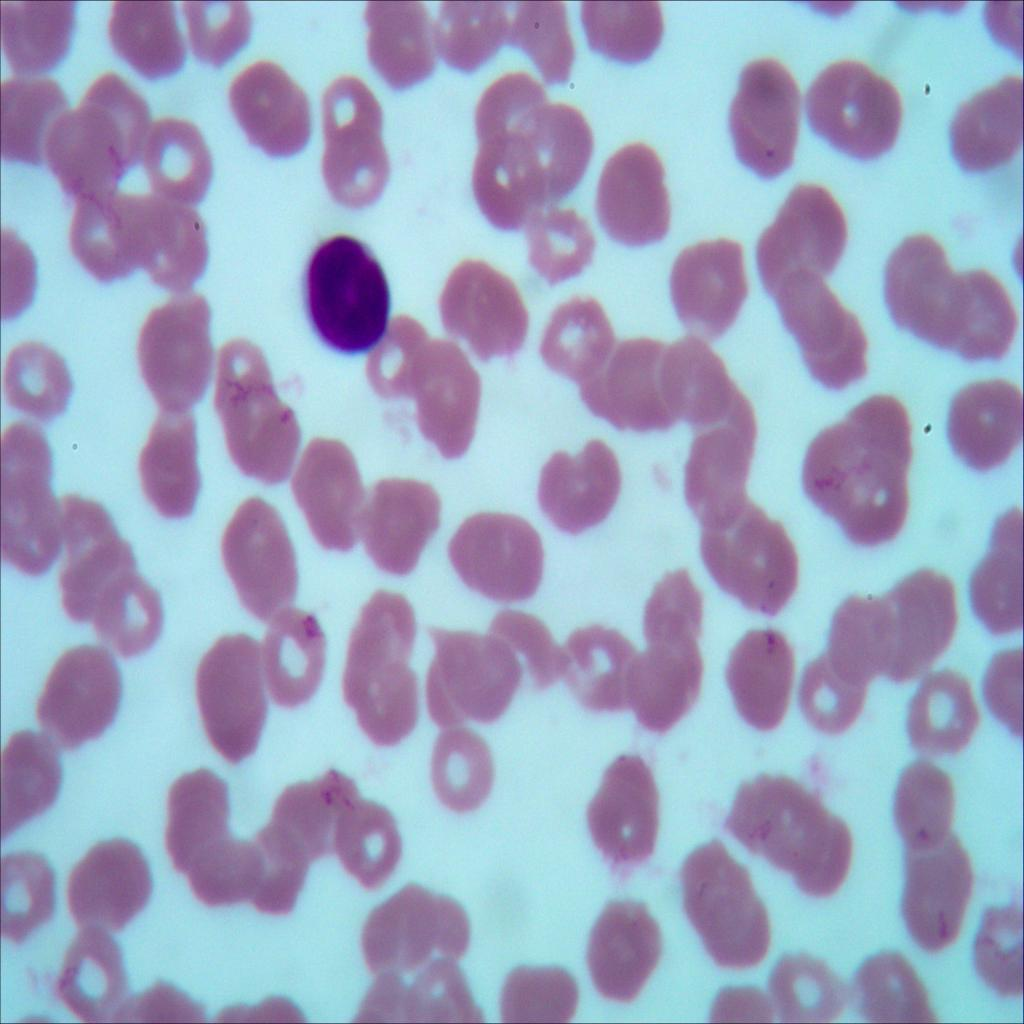Limfoblast: (300, 214, 400, 358)
